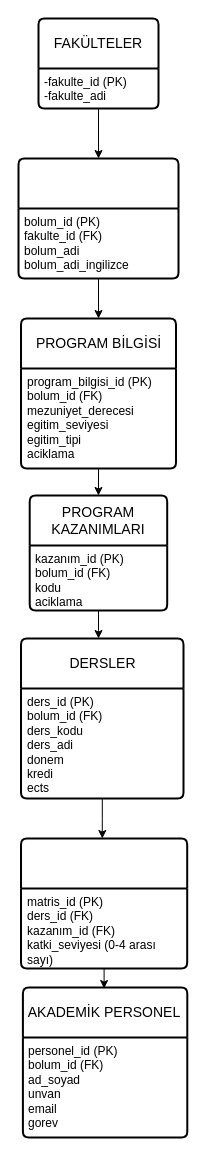
Some shapes in this 205 by 1162 pixel diagram are drawn without their labels. The box of each missing label's shape, as (x1, y1, x2, y2) in pixels:
BÖLÜMLER: (17, 157, 179, 279)
KAZANIM DERS MATRİSİ: (20, 837, 188, 969)
